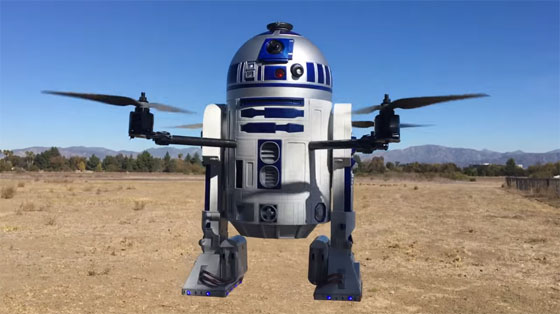r2d2: (201, 22, 357, 297)
